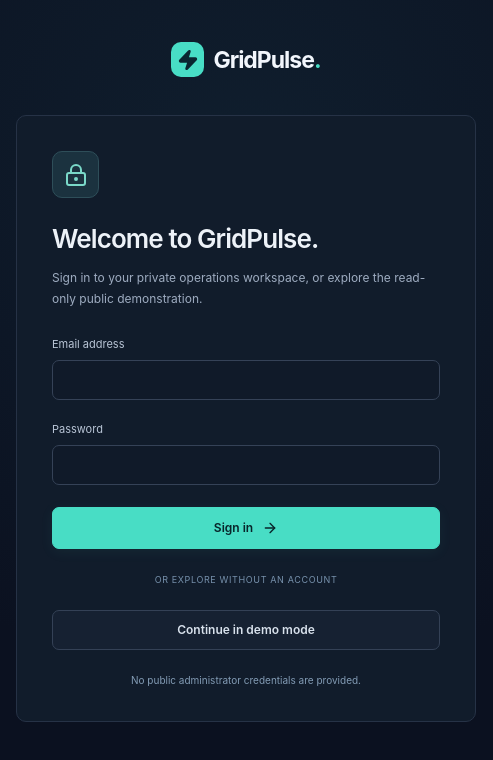
Operations interface with mocked API transport › prevents empty sign-in and displays the API authentication error
The width and height of the screenshot is (493, 760).
Click the button "Sign in" at (246, 528), box [52,507,440,549]
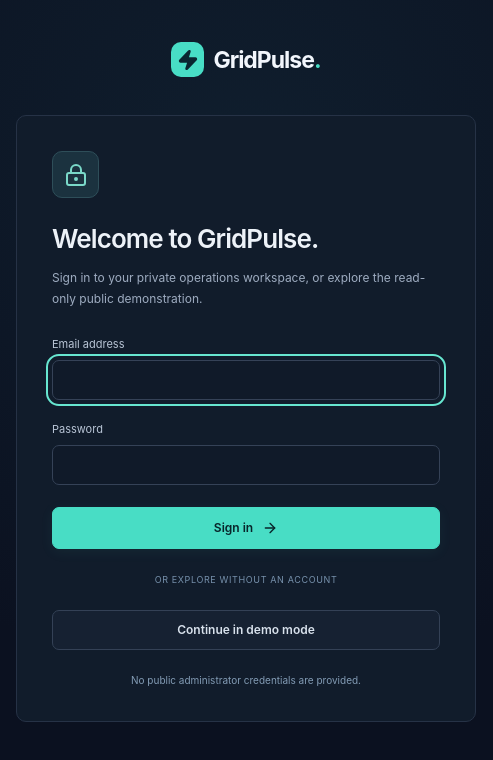
Type "analyst@example.com" into the field labelled "Email address" at (246, 380), box [52,360,440,400]
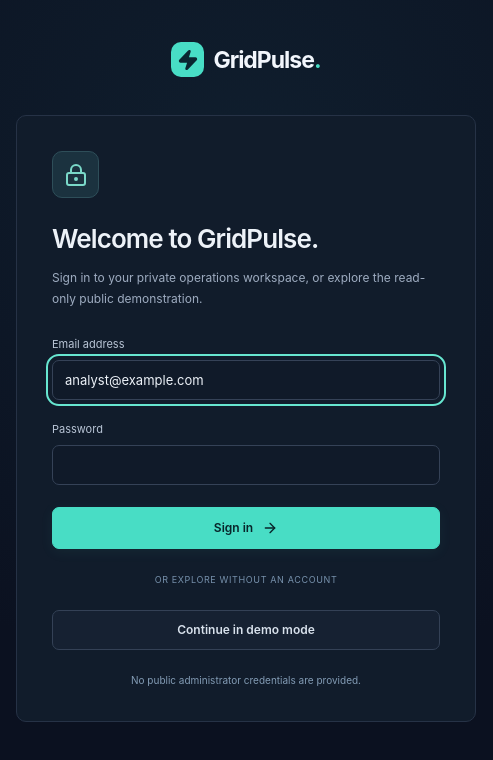
Type "wrong-password" into the password field labelled "Password" at (246, 465), box [52,445,440,485]
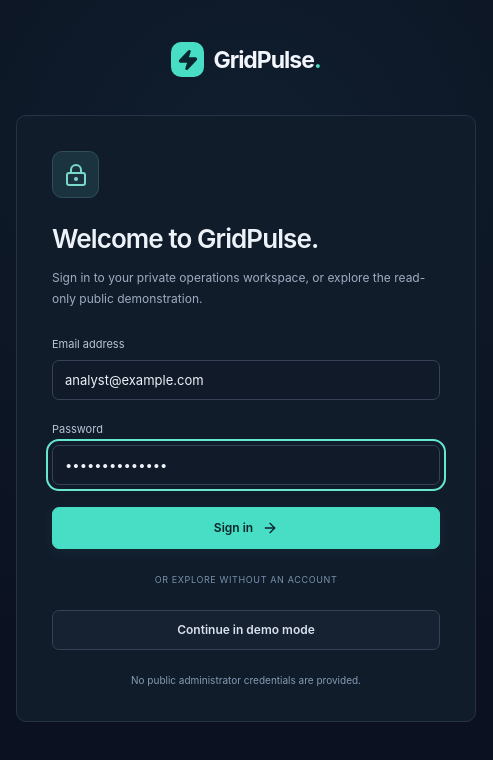
Click the button "Sign in" at (246, 528), box [52,507,440,549]
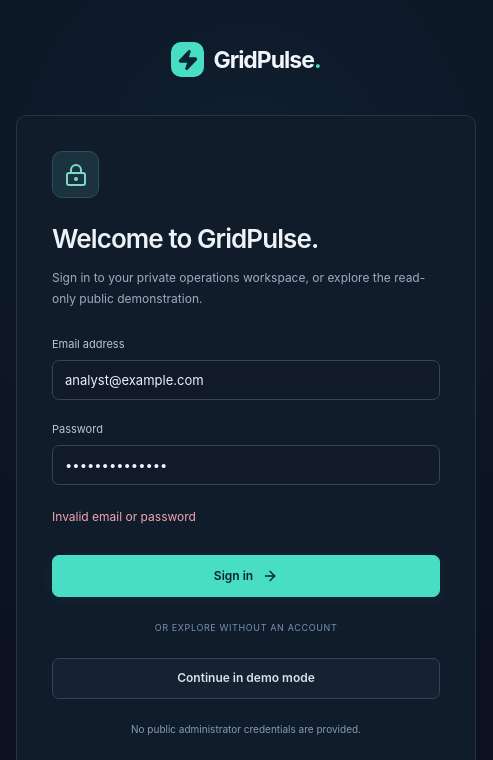
Expected: the message reads "Invalid email or password", [52,509,196,524]
